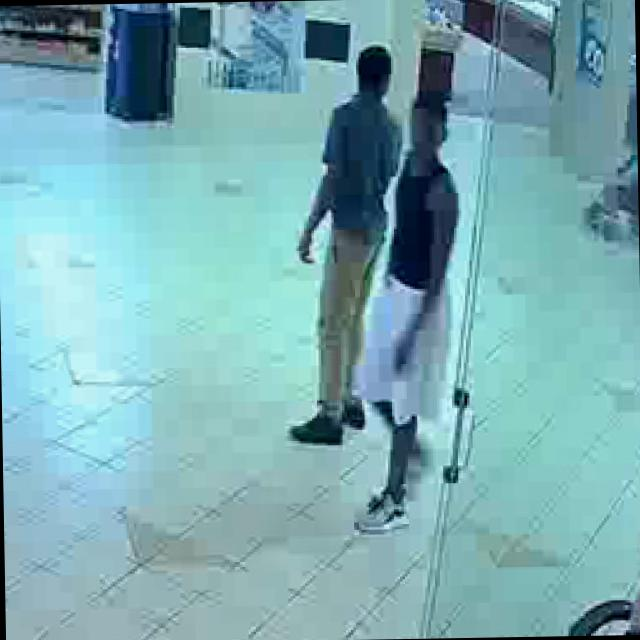person: (341, 82, 469, 534), (280, 43, 407, 446)
